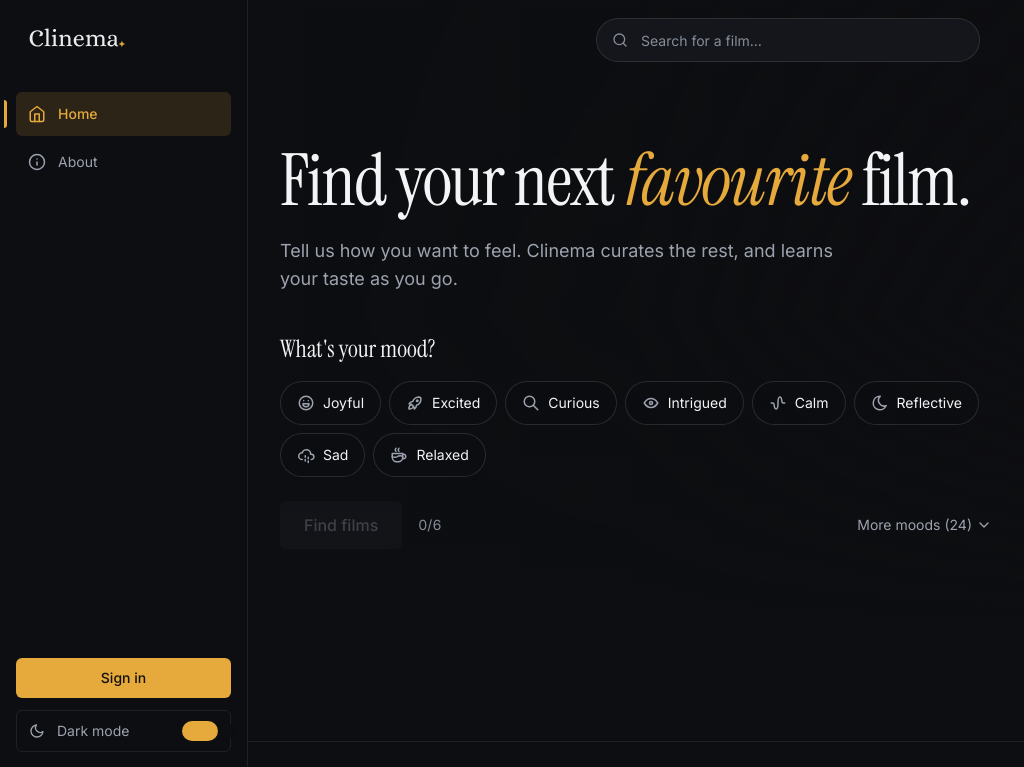
App shell › tells you when a search finds nothing
This screenshot has width=1024, height=767.
Type "zzzz" into the dropdown.
click(788, 40); type("zzzz")  # box left=596, top=18, right=980, bottom=62
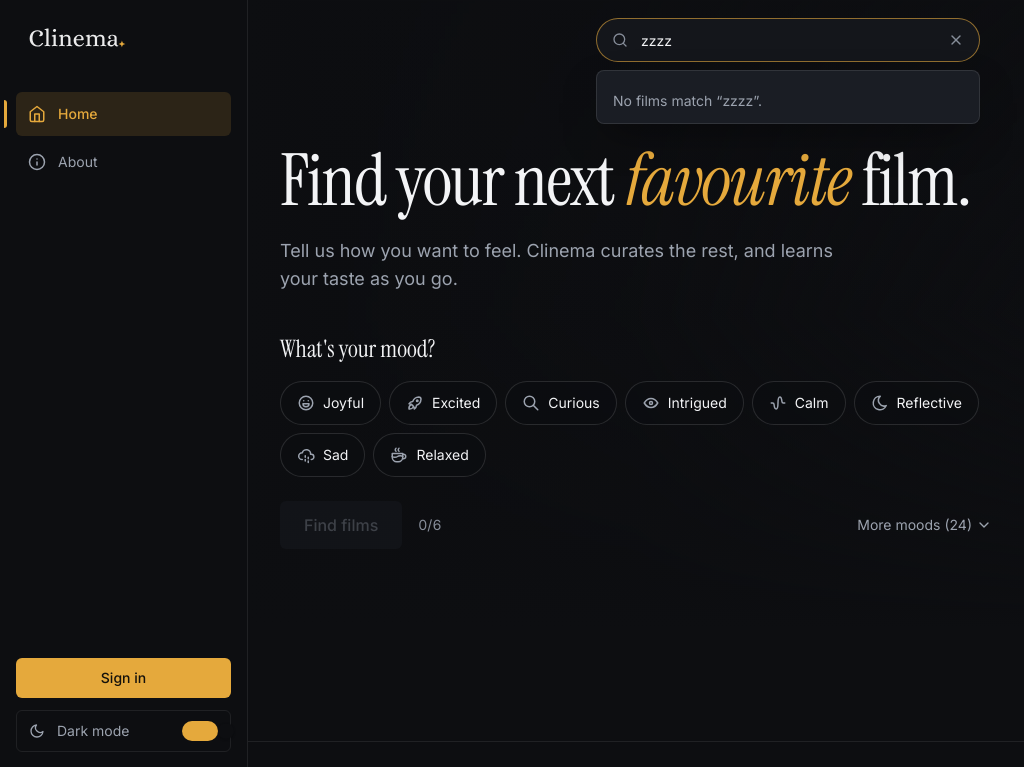
Now the text "No films match “zzzz”." is shown, box left=613, top=92, right=762, bottom=109
